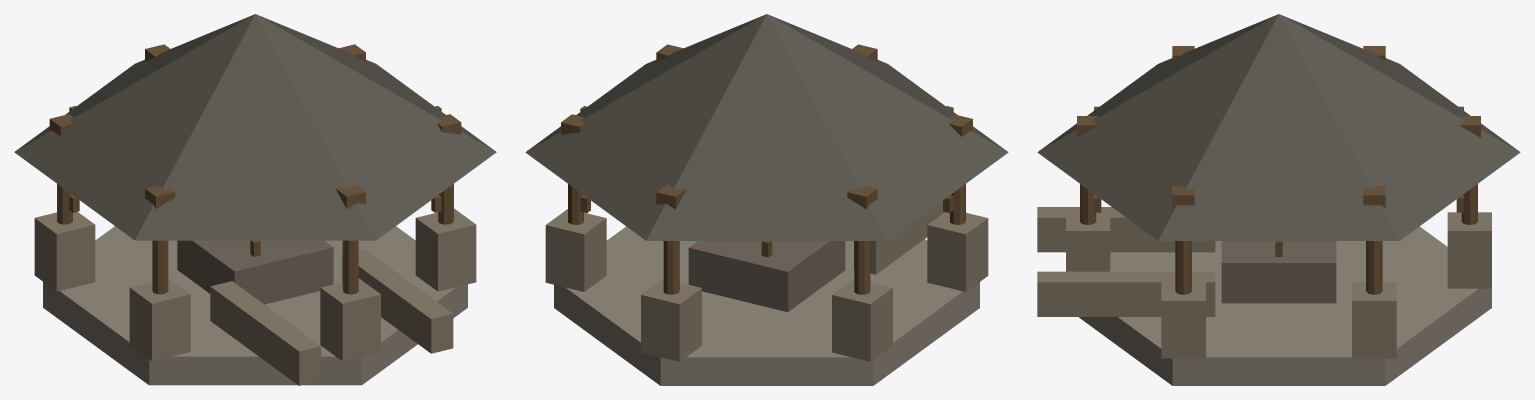
The model's file is boyle-park-spring-house.glb.
3 renders of one model, left to right at view 1: azimuth 30°, elevation 25°; view 2: azimuth 150°, elevation 25°; view 3: azimuth 270°, elevation 25°, orthographic.
Parts seen in each view (by area): view 1: boyle_shake, boyle_stone, boyle_flag, boyle_stone2, boyle_log, boyle_trim; view 2: boyle_shake, boyle_flag, boyle_stone, boyle_stone2, boyle_log, boyle_trim; view 3: boyle_shake, boyle_flag, boyle_stone, boyle_stone2, boyle_log, boyle_trim.
Boxes of the visible parts, x1=… form: boyle_shake: x1=14, y1=14, x2=496, y2=240; boyle_stone: x1=34, y1=208, x2=476, y2=385; boyle_flag: x1=43, y1=226, x2=467, y2=385; boyle_stone2: x1=177, y1=240, x2=333, y2=304; boyle_log: x1=57, y1=106, x2=453, y2=294; boyle_trim: x1=49, y1=44, x2=461, y2=208; boyle_shake: x1=525, y1=14, x2=1008, y2=240; boyle_flag: x1=554, y1=226, x2=979, y2=385; boyle_stone: x1=545, y1=201, x2=988, y2=361; boyle_stone2: x1=688, y1=241, x2=845, y2=312; boyle_log: x1=568, y1=106, x2=965, y2=294; boyle_trim: x1=561, y1=44, x2=972, y2=209; boyle_shake: x1=1037, y1=14, x2=1520, y2=240; boyle_flag: x1=1079, y1=226, x2=1491, y2=385; boyle_stone: x1=1037, y1=207, x2=1491, y2=358; boyle_stone2: x1=1221, y1=241, x2=1336, y2=303; boyle_log: x1=1080, y1=106, x2=1477, y2=294; boyle_trim: x1=1077, y1=46, x2=1480, y2=207.
Size of the model in its own units: 6.7 by 5.1 by 7.6.
